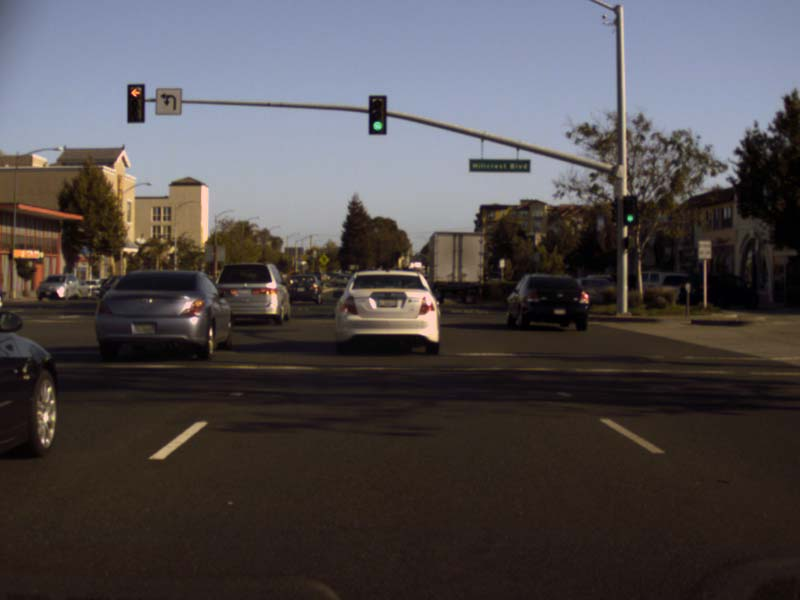Green: (367, 94, 386, 136), (622, 195, 638, 225)
Red: (126, 83, 145, 123)
